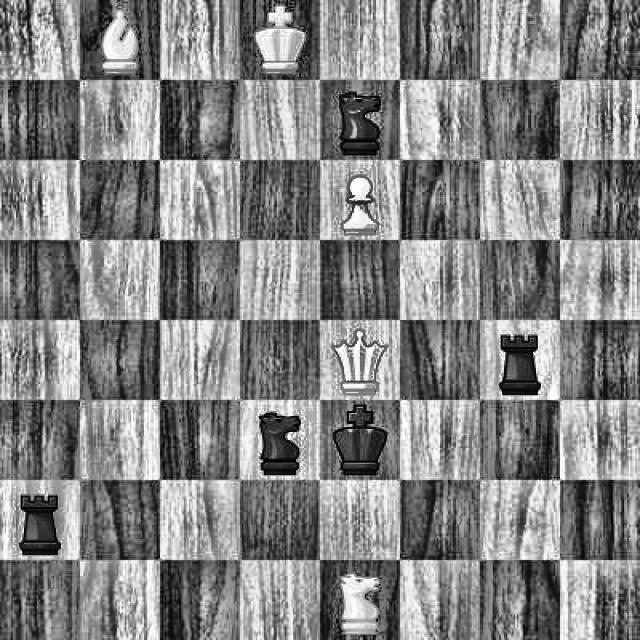Black Knight: (331, 82, 390, 158), (250, 406, 310, 476)
black king: (331, 404, 388, 477)
black rook: (2, 484, 68, 551), (488, 328, 548, 396)
white bishop: (92, 4, 152, 84)
white king: (241, 2, 312, 78)
white pawn: (326, 162, 389, 235)
white queen: (327, 321, 396, 392)
whiteknight: (325, 558, 395, 640)
